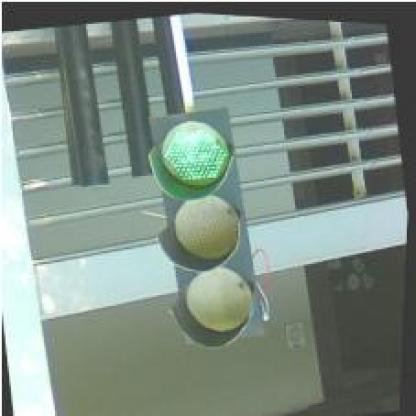green: (136, 95, 275, 348)
